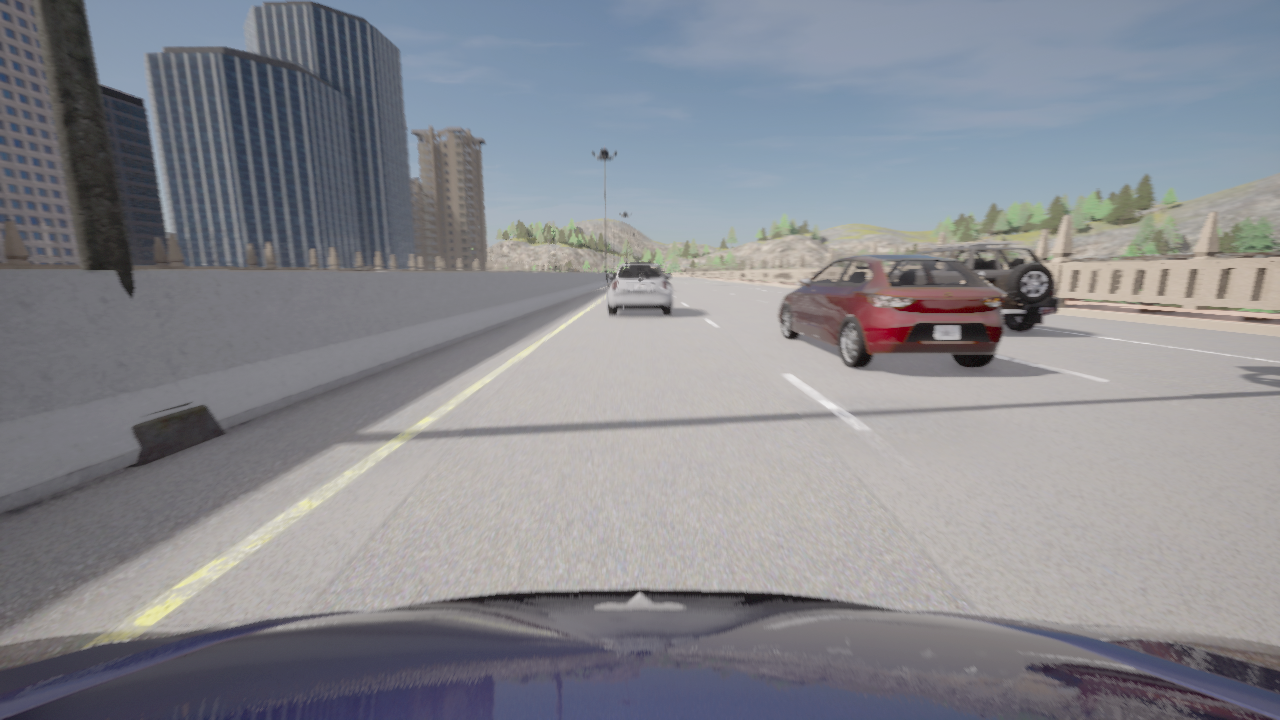cyclist: (0, 588, 1279, 719), (777, 253, 1005, 367), (915, 242, 1058, 331), (607, 264, 672, 315), (630, 262, 649, 263)
